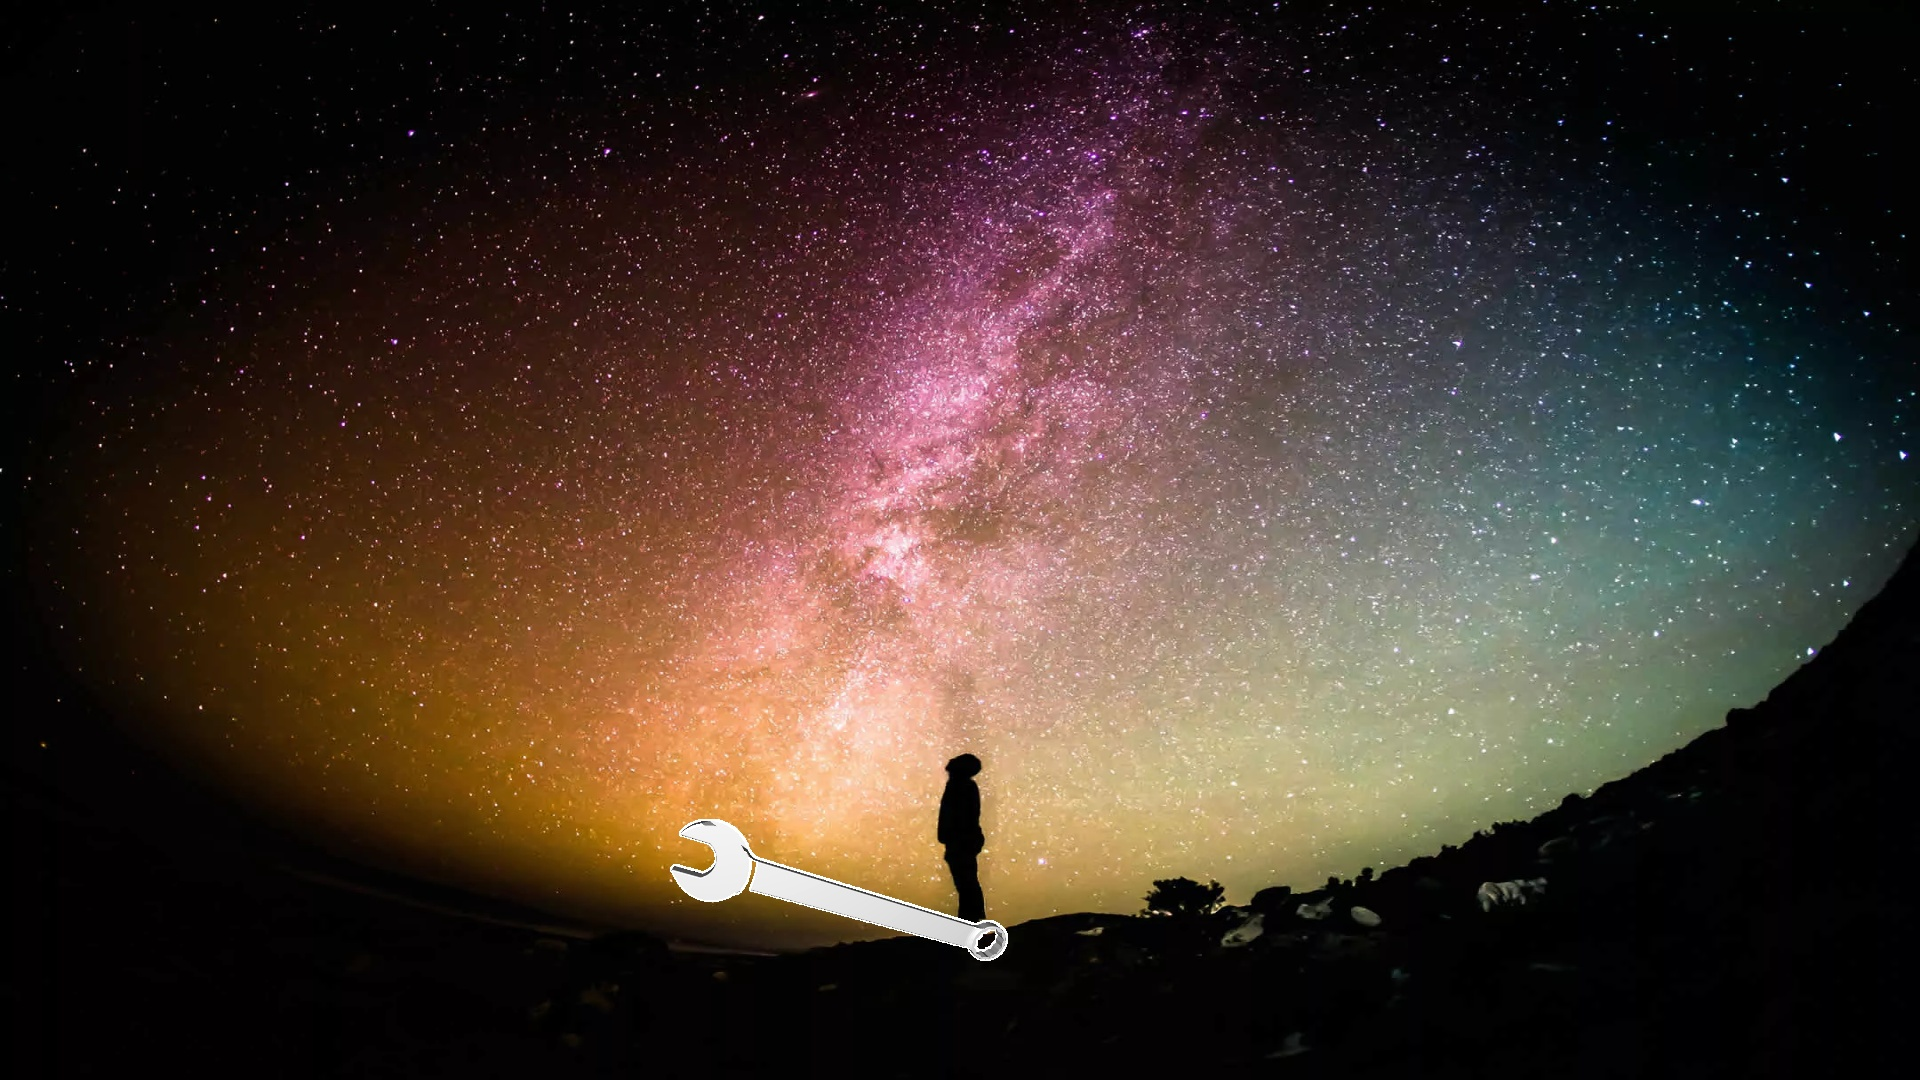Mixed Key: (670, 819, 1007, 960)
